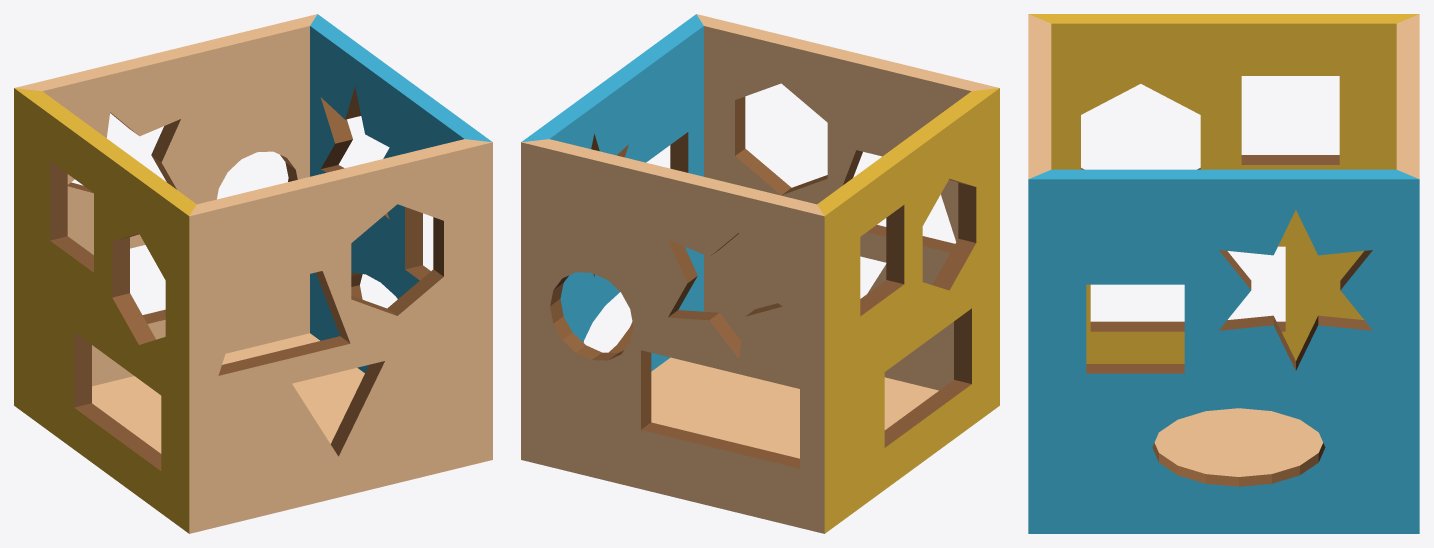
Rendered from Prop_ShapeSortingToy.fbx.
3 renders of one model, left to right at view 1: azimuth 30°, elevation 25°; view 2: azimuth 150°, elevation 25°; view 3: azimuth 270°, elevation 25°, orthographic. The views are drawn at different scales.
Parts seen in each view (by area): view 1: Prop_ShapeSortingToy; view 2: Prop_ShapeSortingToy; view 3: Prop_ShapeSortingToy.
Part boxes in pixels (x1,y1,x2,y2): Prop_ShapeSortingToy: [14, 14, 492, 533]; Prop_ShapeSortingToy: [521, 14, 999, 533]; Prop_ShapeSortingToy: [1028, 14, 1419, 533].
Bounding box in the file's own units: 44.03 × 44.03 × 44.03.
